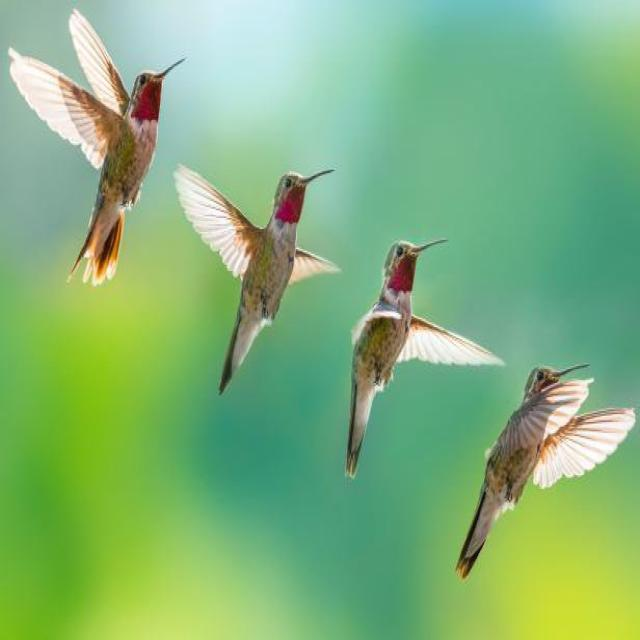Humming Bird: (10, 12, 178, 299), (183, 161, 333, 407), (463, 356, 618, 567), (350, 240, 488, 475)
